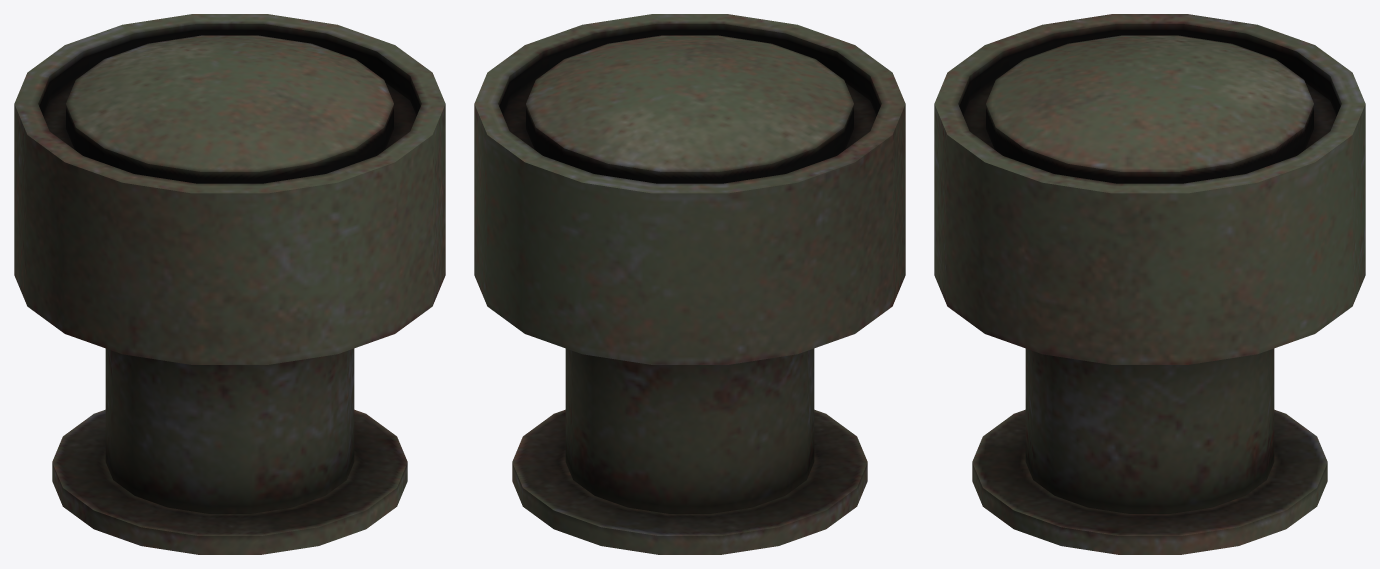
The model's file is Vent_06.fbx.
3 views of the same model, side by side, from view 1: azimuth 30°, elevation 25°; view 2: azimuth 150°, elevation 25°; view 3: azimuth 270°, elevation 25° (orthographic).
Visible parts, largest first — view 1: Vent_6; view 2: Vent_6; view 3: Vent_6.
Part boxes in pixels (box(x1,y1,x2,y2)): Vent_6: box(14, 14, 445, 554); Vent_6: box(474, 14, 905, 554); Vent_6: box(934, 14, 1365, 554).
Bounding box in the file's own units: 61.54 × 63.81 × 62.49.
